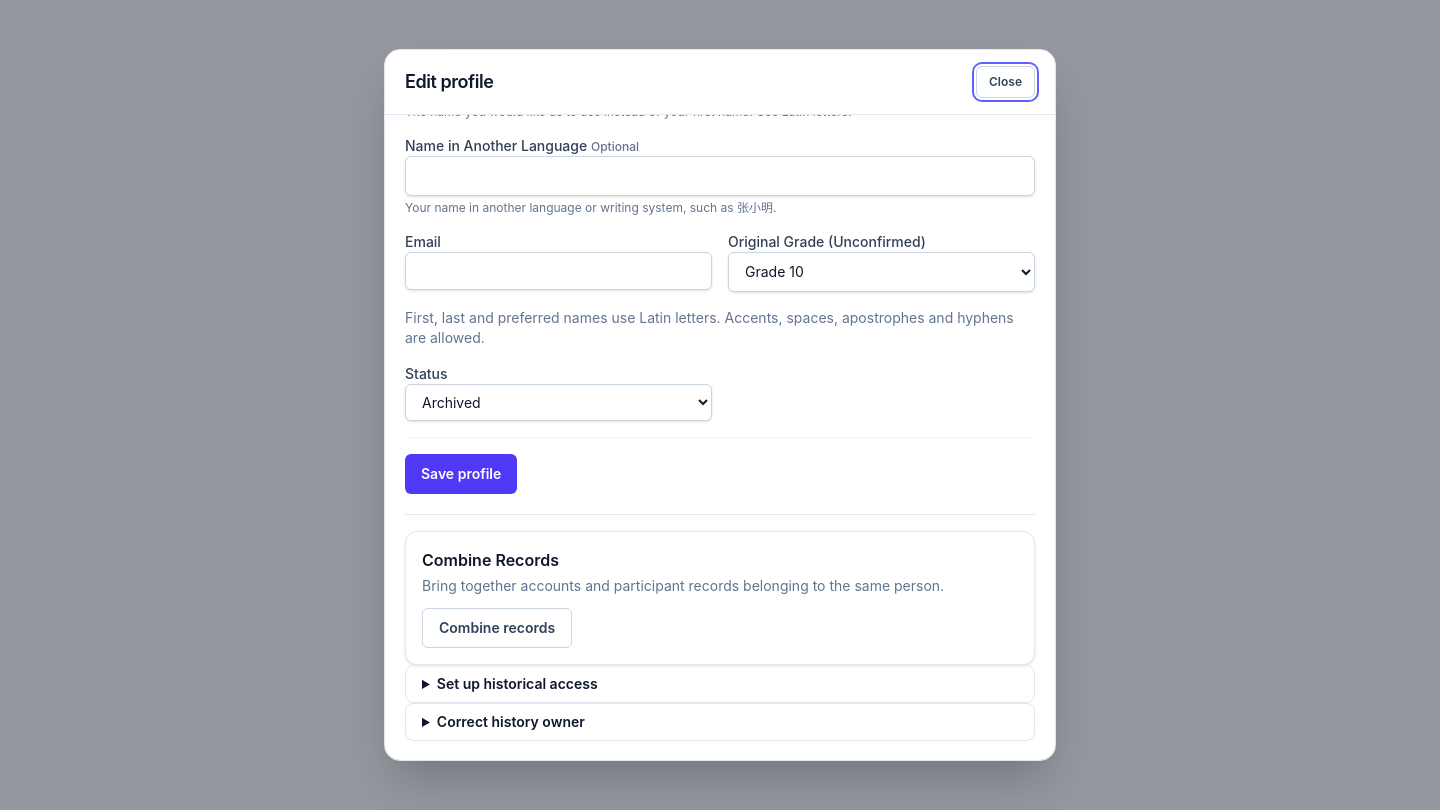
Test: offers unified combination for a ARCHIVED tutor with its exact source preselected
(page scrolled)
What coordinates should you click on to do the following:
click the button "Combine records"
I would click on:
 (497, 628)
Its box is top-left (422, 608), bottom-right (572, 648).
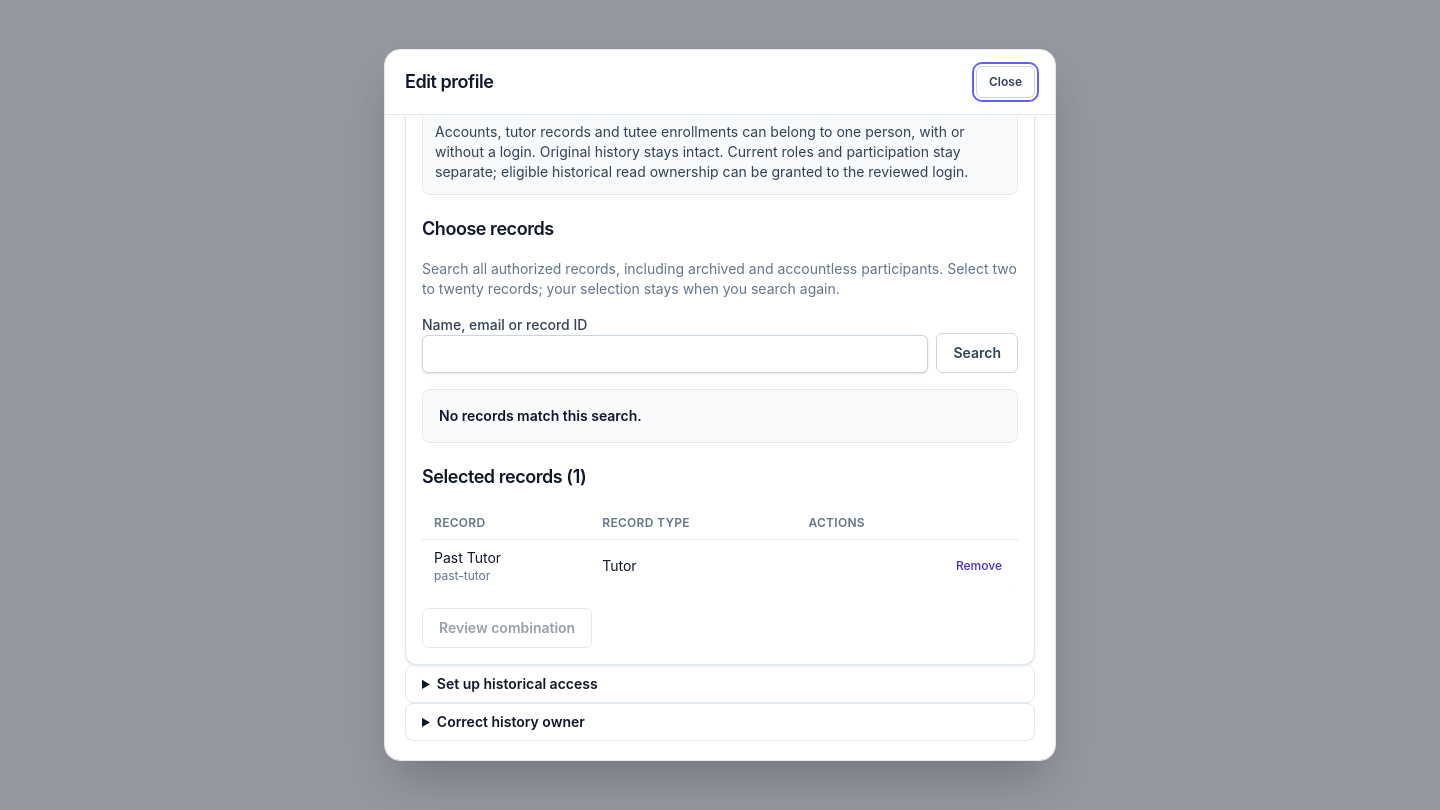
expect the heading "Correct history owner" is shown: met, box top-left (437, 713), bottom-right (585, 730)
expect the text "past-tutor" is shown: met, box top-left (434, 568), bottom-right (490, 583)
expect the text "Past Tutor" is shown: met, box top-left (434, 549), bottom-right (501, 566)
